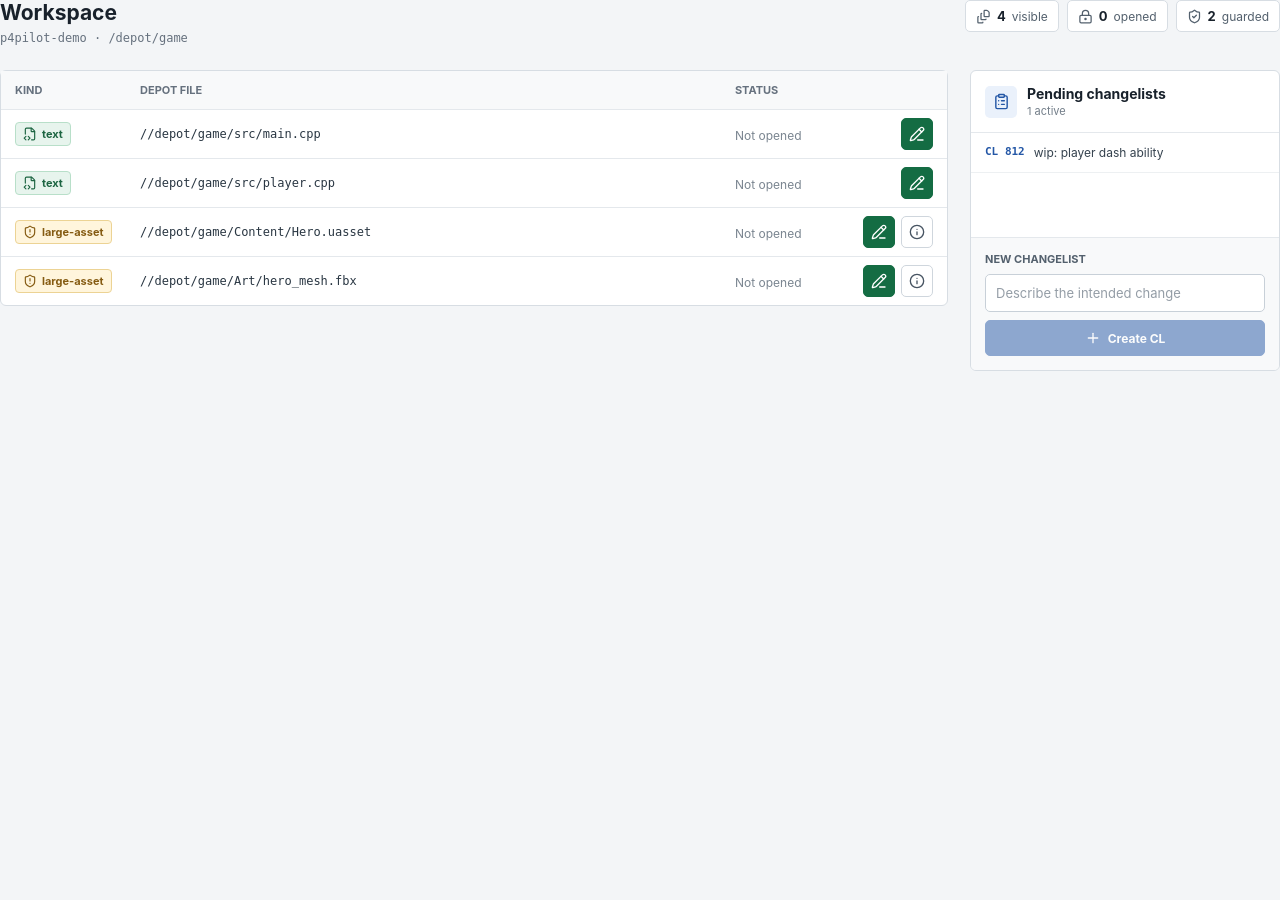
Test case: Dashboard › shows the large-asset badge and a withheld-content card
The image size is (1280, 900).
Expected: the text "large-asset" next to "//depot/game/Content/Hero.uasset" is shown, [42,225,104,239]
What coordinates should you click on to do the following:
click the button named "Asset info" in the row of "//depot/game/Content/Hero.uasset"
I would click on:
 (917, 232)
Its box is [901,216,933,248].
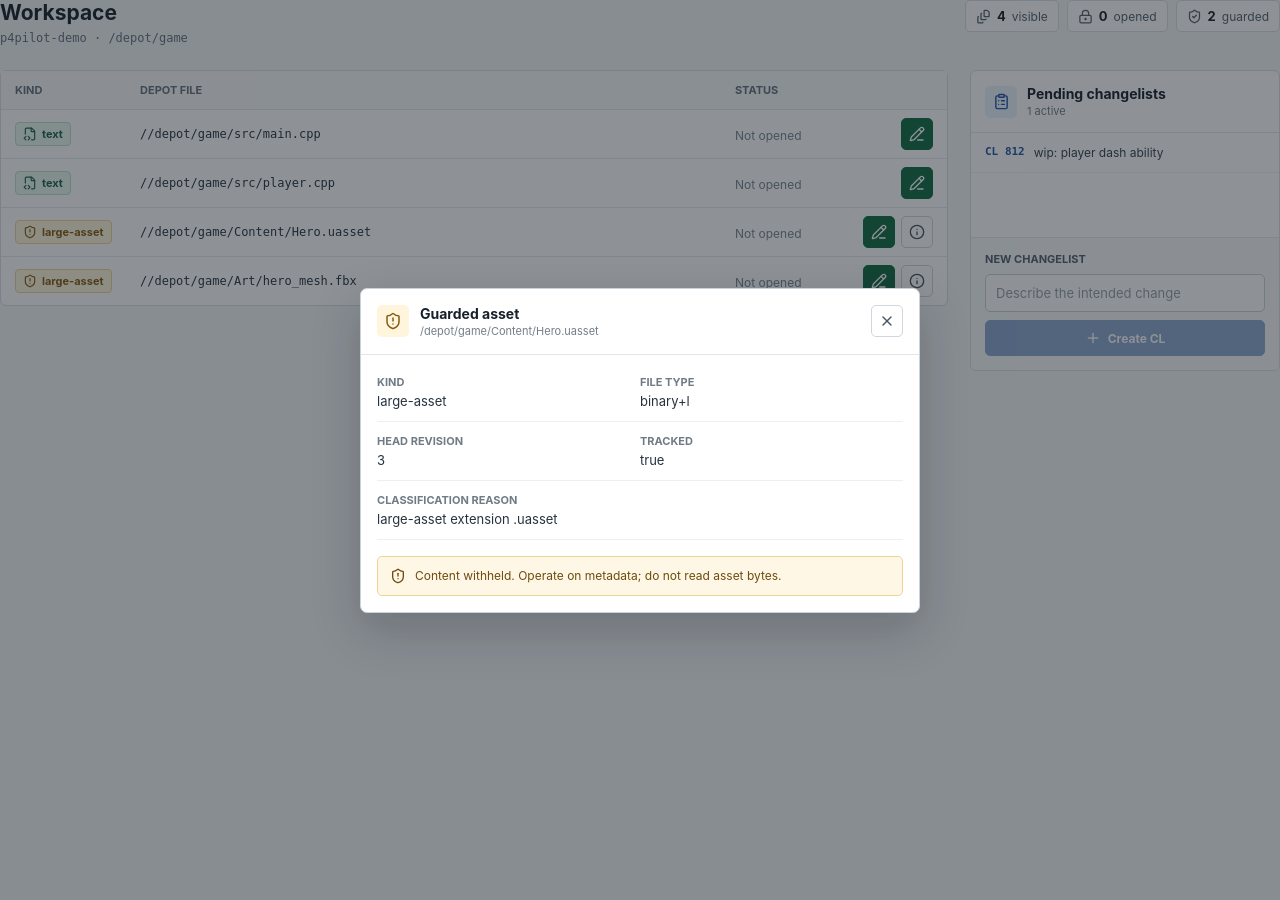
Now the dialog with test id "asset-info" is shown, box [360,288,920,612]
Now the text "Content withheld" is shown, box [415,568,782,583]
